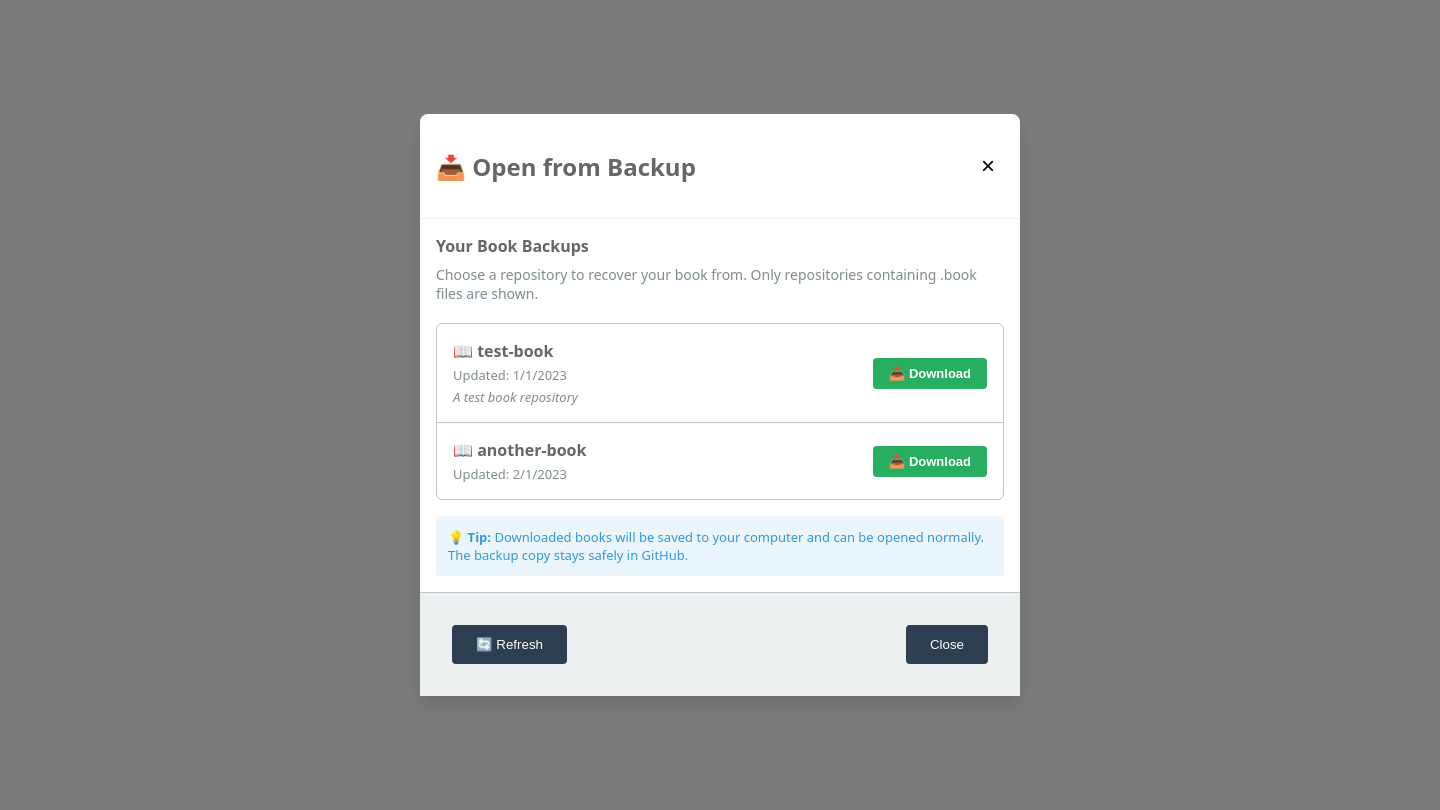
Scenario: BackupRecovery › when authenticated › downloading books › handles empty book data from pullBook
expect the heading "📖 test-book" is shown: met, box [453, 340, 554, 362]
Click the button "📥 Download" in the row of "1/1/2023" at (930, 373), box [873, 358, 987, 389]
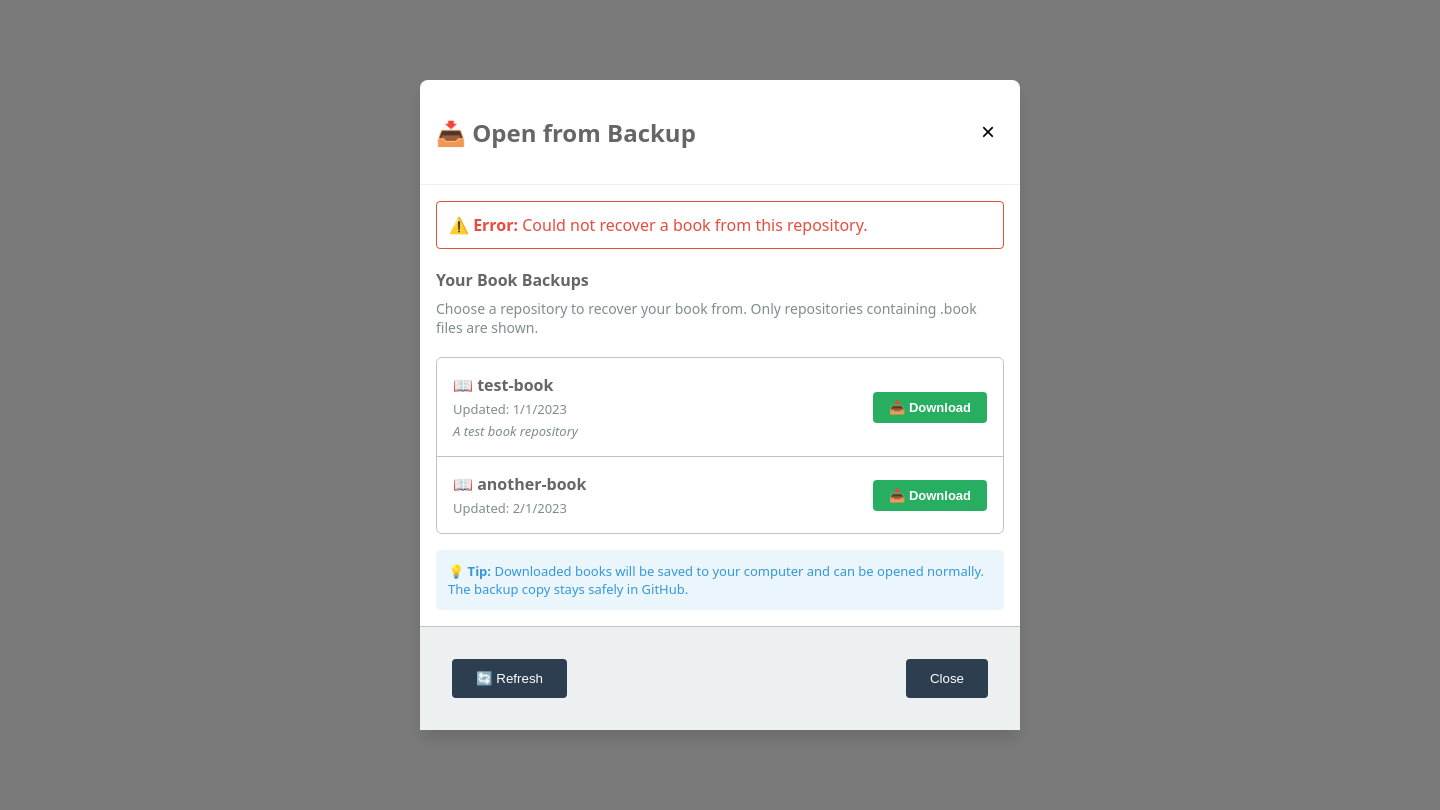
expect the text "⚠️ Error:" is shown: met, box [449, 214, 518, 236]
expect the text "Could not recover a book from this repository." is shown: met, box [522, 214, 868, 236]
